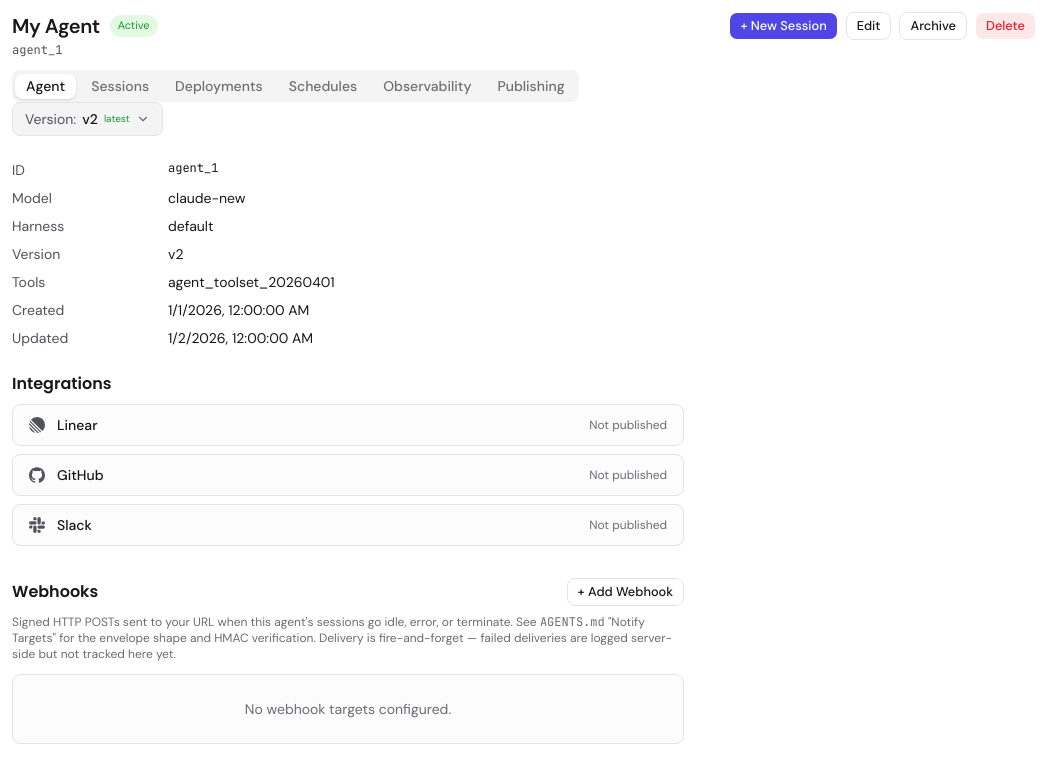
it: <AgentDetail /> hub layout › navigates to the Publishing tab and shows the Not published empty state
Expected: the heading "My Agent" is shown, x1=12 y1=12 x2=100 y2=40
Click the link "Publishing" at (531, 86), box x1=497 y1=77 x2=565 y2=95
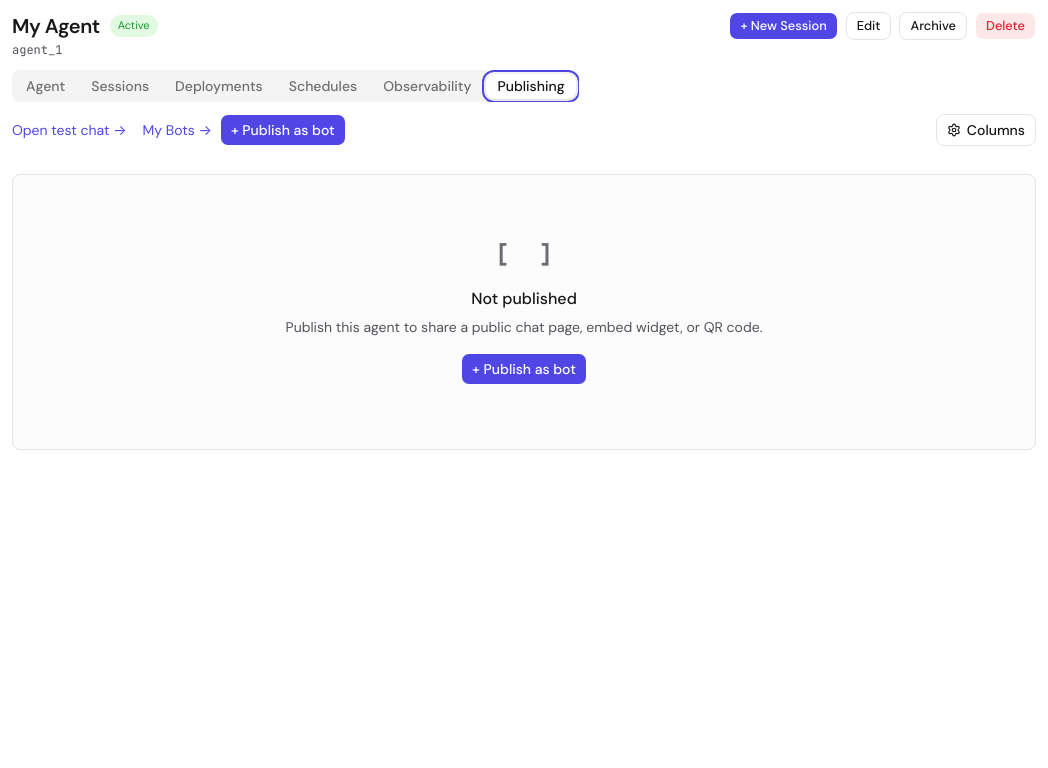
Expected: the text "Not published" is shown, x1=471 y1=288 x2=577 y2=309
Expected: the text "Publish this agent to share a public chat page, embed widget, or QR code." is shown, x1=286 y1=318 x2=762 y2=336
